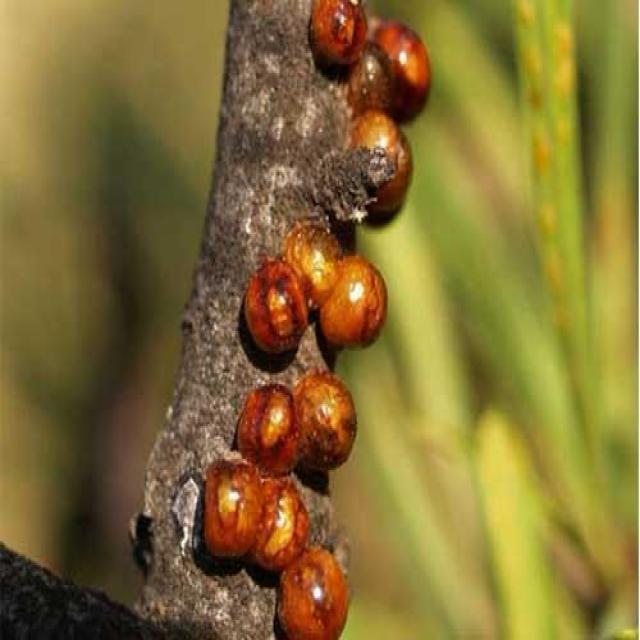Black Scale: (200, 369, 355, 638), (308, 0, 429, 223), (244, 219, 387, 355)
